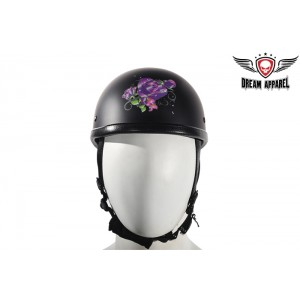with_helmet: (89, 66, 210, 153)
